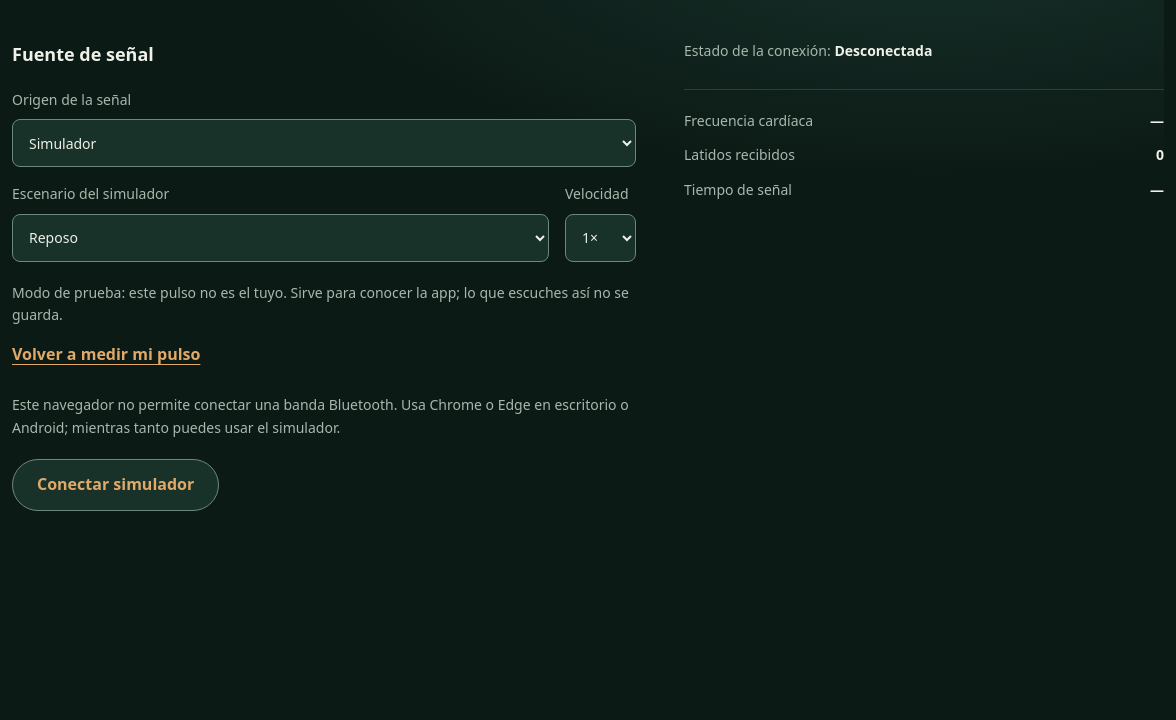
Scenario: AcquisitionPanel › shows the latest reading while notifications arrive
Click the button "Conectar simulador": point(116, 485) x1=12 y1=459 x2=219 y2=511
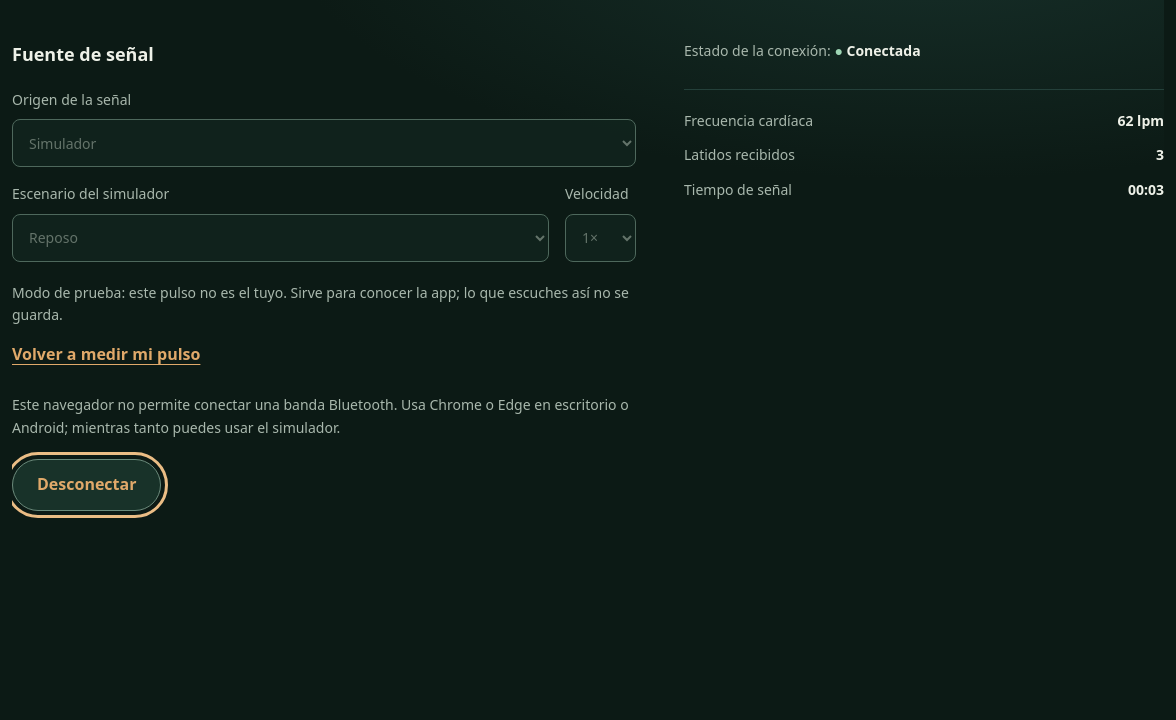
expect the text with test id "signal-time" reads "00:03": met, box x1=1128 y1=180 x2=1164 y2=199
